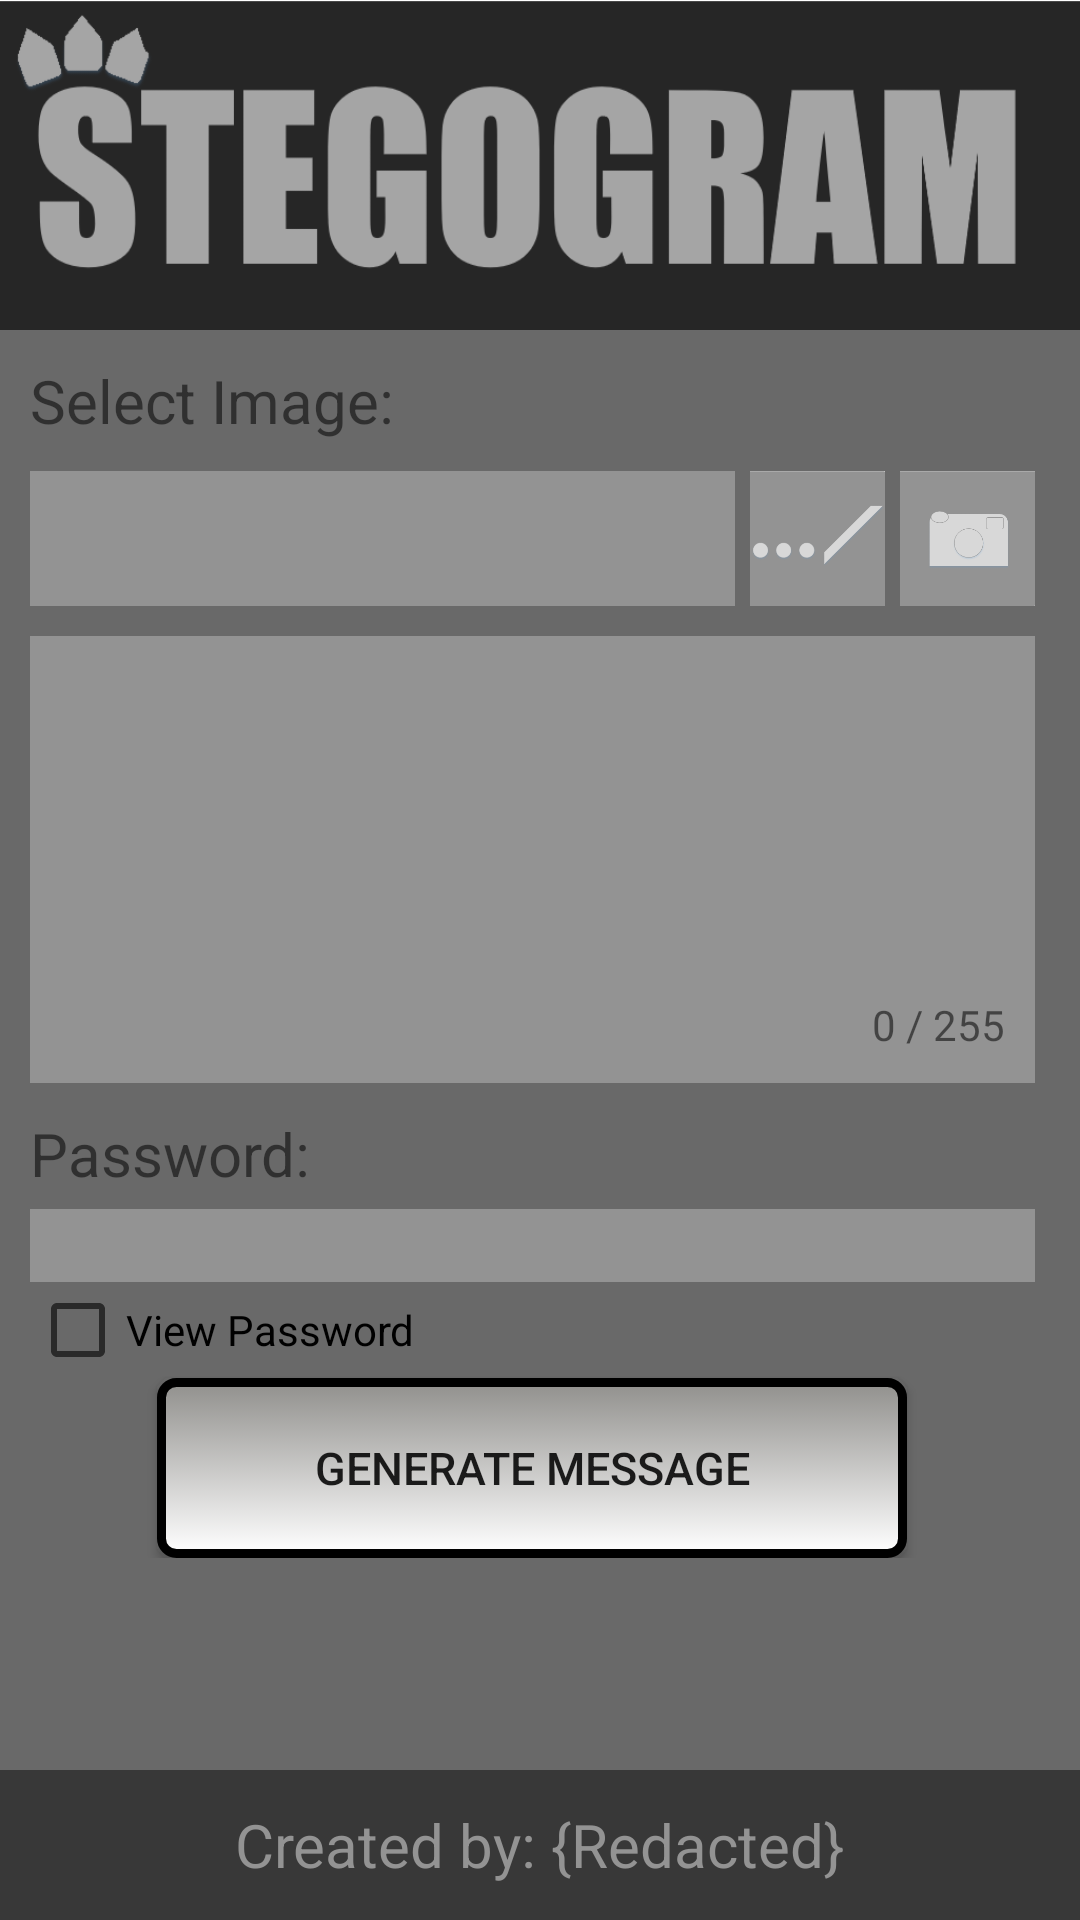

Icons on this 1080*1920 Android screen, each with the point to tap as (x=x, y=y):
camera: (x=967, y=538)
dir: (x=817, y=538)
